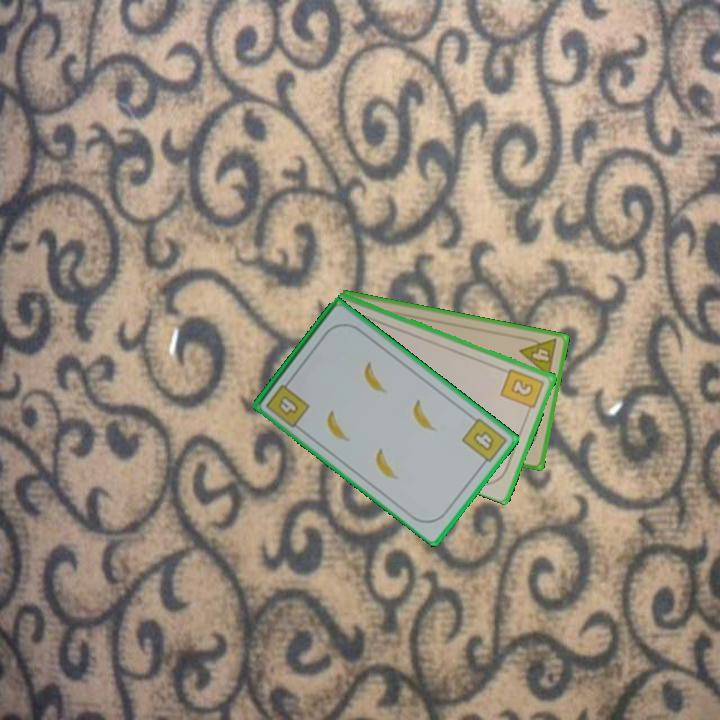2b: (498, 365, 547, 416)
4b: (458, 414, 510, 470), (262, 375, 313, 431)
4p: (516, 333, 560, 380)
